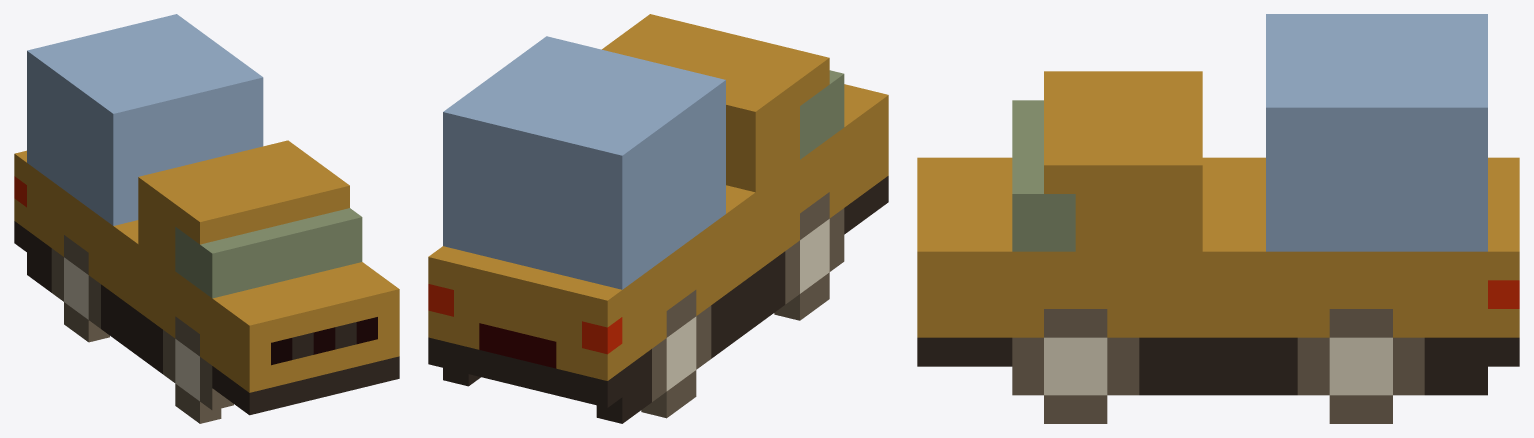
Rendered from truck.obj.
3 views of the same model, side by side, from view 1: azimuth 30°, elevation 25°; view 2: azimuth 150°, elevation 25°; view 3: azimuth 270°, elevation 25° (orthographic). The views are drawn at different scales.
Bounding box in the file's own units: 7 × 11 × 19.
1 material, 1 textured.
